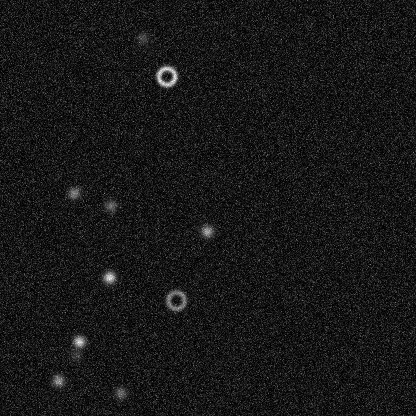Ring: (154, 64, 178, 88), (164, 288, 188, 312)
Spot: (65, 185, 81, 201), (50, 372, 66, 388), (199, 223, 215, 239), (102, 197, 118, 213), (71, 333, 87, 349), (67, 347, 83, 363), (112, 384, 128, 400), (101, 269, 117, 285), (134, 29, 150, 45)
